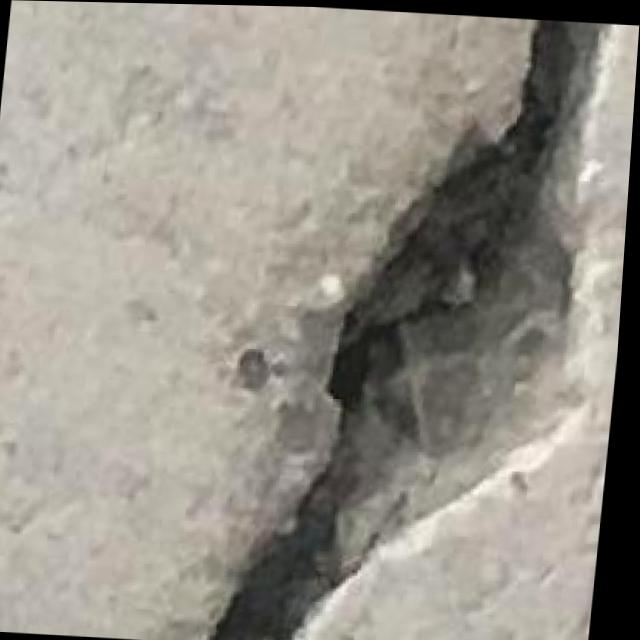Crack: (200, 5, 640, 640)
